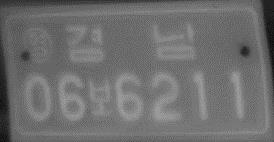0: (24, 72, 52, 124)
1: (192, 69, 214, 121), (229, 69, 250, 121)
2: (149, 71, 183, 123)
6: (57, 72, 87, 122), (115, 72, 144, 122)
경남_D: (63, 19, 197, 64)
보: (87, 78, 114, 118)
영: (20, 25, 57, 64)
